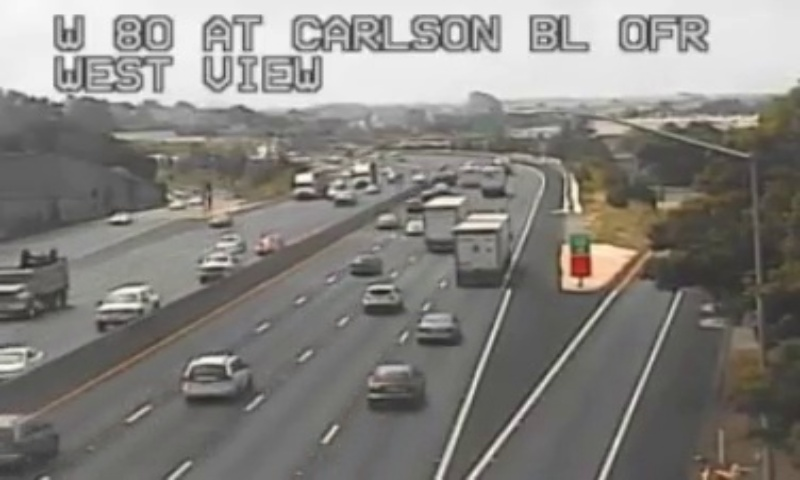car: (180, 355, 248, 398), (365, 364, 423, 407), (417, 312, 457, 341), (361, 283, 402, 310), (349, 256, 381, 276)
truck: (451, 212, 508, 286), (421, 196, 468, 250)
